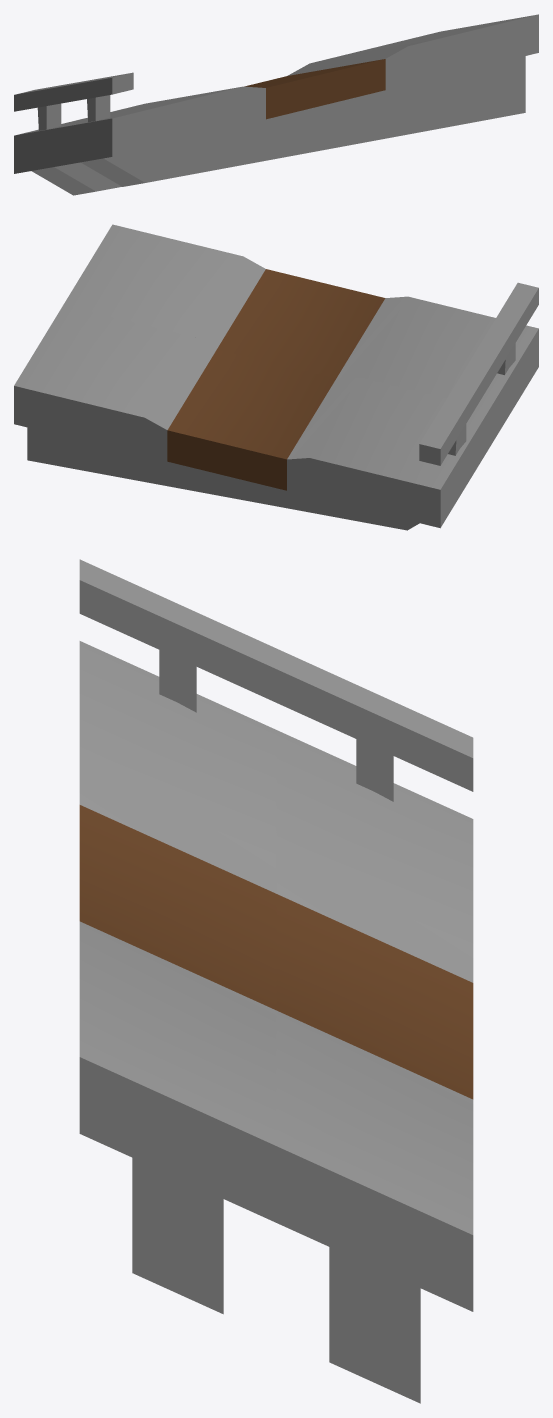
The model's file is BlocLine2P1.FBX.
The picture shows the model from 3 angles, top to bottom: view 1: azimuth 30°, elevation 25°; view 2: azimuth 150°, elevation 25°; view 3: azimuth 270°, elevation 25°; orthographic projection. The views are drawn at different scales.
Parts seen in each view (by area): view 1: BlocLine2P1; view 2: BlocLine2P1; view 3: BlocLine2P1.
Boxes of the visible parts, x1=… form: BlocLine2P1: x1=14, y1=14, x2=538, y2=195; BlocLine2P1: x1=14, y1=224, x2=538, y2=530; BlocLine2P1: x1=79, y1=559, x2=473, y2=1403.
Bounding box in the file's own units: 5 × 2.4 × 2.
